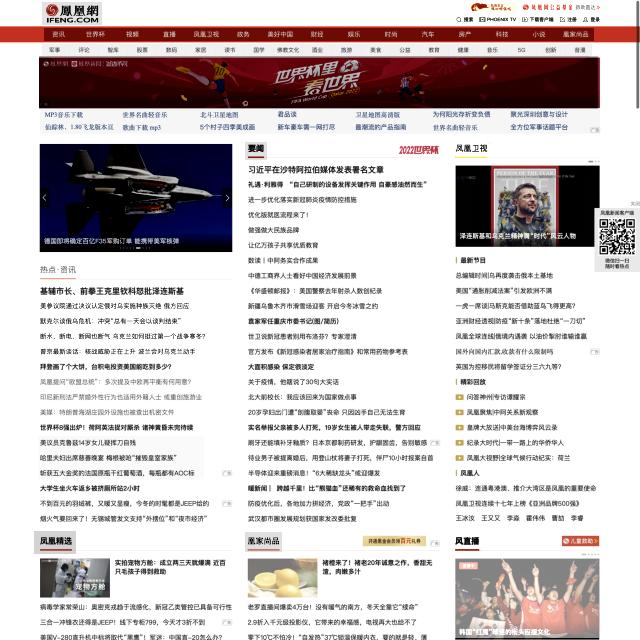ImageView: (39, 56, 600, 109)
Input field: (37, 301, 210, 357), (38, 376, 206, 419), (38, 436, 204, 479)
Switch: (39, 144, 233, 252)
bag: (0, 0, 636, 44)
breadcrumbs: (34, 531, 76, 554), (37, 263, 78, 282), (245, 532, 282, 552), (456, 141, 490, 159), (453, 533, 482, 554), (245, 142, 267, 160)
copy: (455, 558, 599, 638), (246, 556, 318, 598), (39, 557, 111, 598)
date picker: (42, 2, 102, 25)
decoration: (44, 28, 594, 41), (42, 44, 592, 57)
